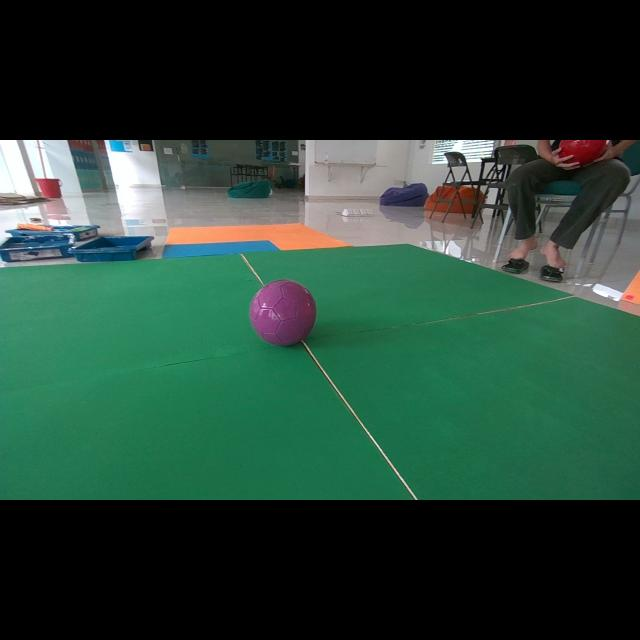P: (249, 279, 316, 346)
R: (559, 140, 607, 166)
